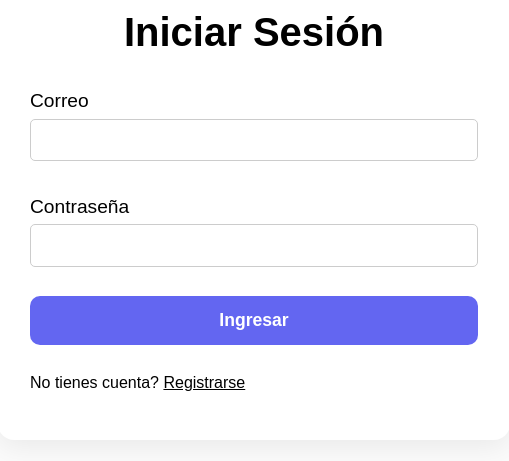
Scenario: Login Page › Validation Email Input › should have an error message if the email is invalid
Type "invalidemail" into the field labelled "Correo" at (254, 140), box [30,119,478,161]
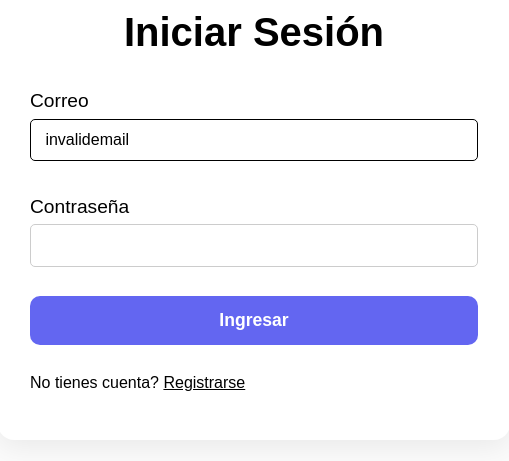
Click the submit button at (254, 321), box [30,296,478,345]
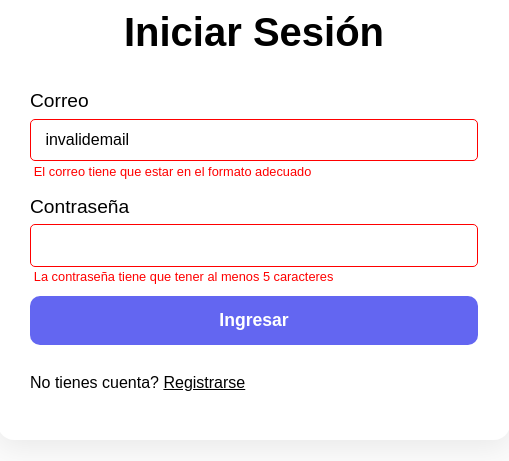
Now the text "El correo tiene que estar en el formato adecuado" is shown, box [30,161,311,179]
